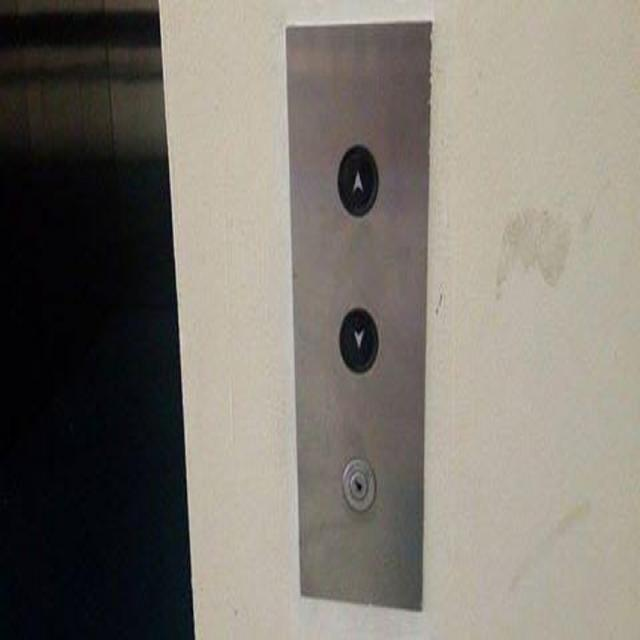down: (338, 306, 378, 374)
keyhole: (341, 456, 375, 513)
up: (335, 142, 379, 218)
